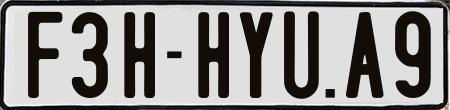3: (69, 10, 107, 97)
9: (392, 8, 431, 99)
A: (343, 11, 387, 100)
F: (28, 11, 68, 101)
H: (124, 12, 157, 101), (196, 10, 229, 99)
U: (283, 11, 321, 100)
Y: (237, 12, 275, 99)
